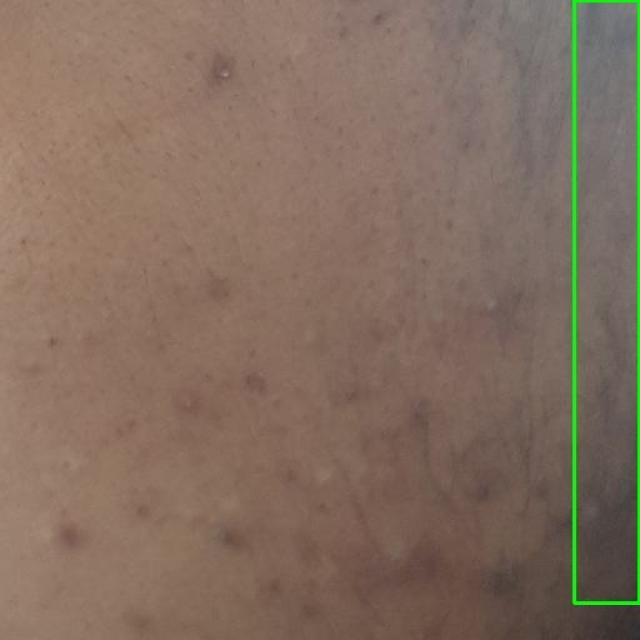Seborrheic Dermatitis: (574, 0, 639, 602)
